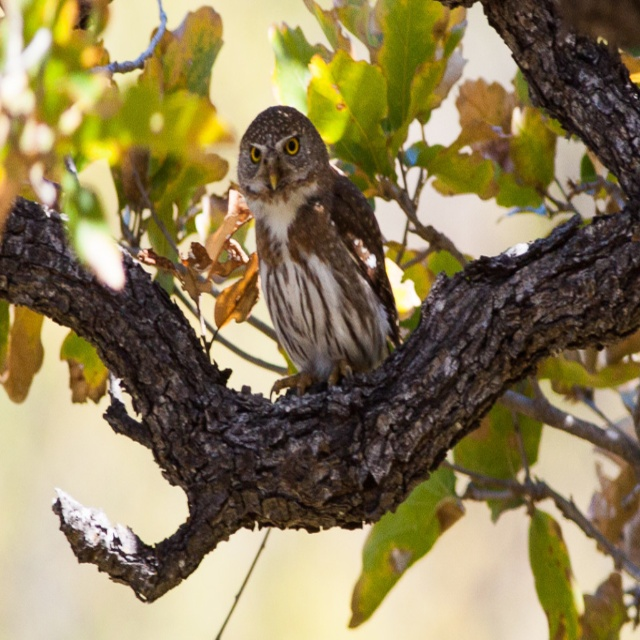Owl: (235, 100, 405, 402)
